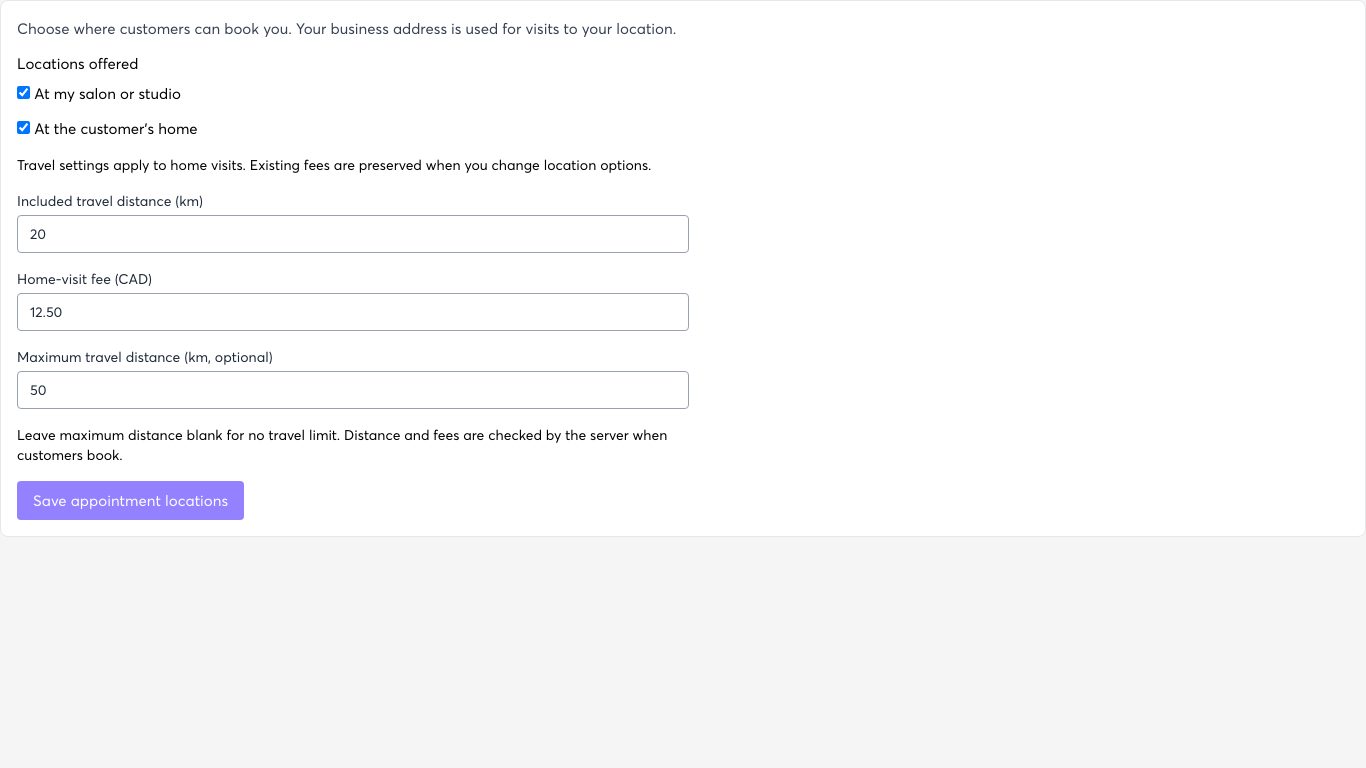
Scenario: preserves existing fees and explicitly clears a travel cap
Expected: the number field labelled "Home-visit fee (CAD)" is shown, [17,293,689,331]
Click the checkbox labelled "At the customer's home": {"x": 24, "y": 127} [17,120,30,134]
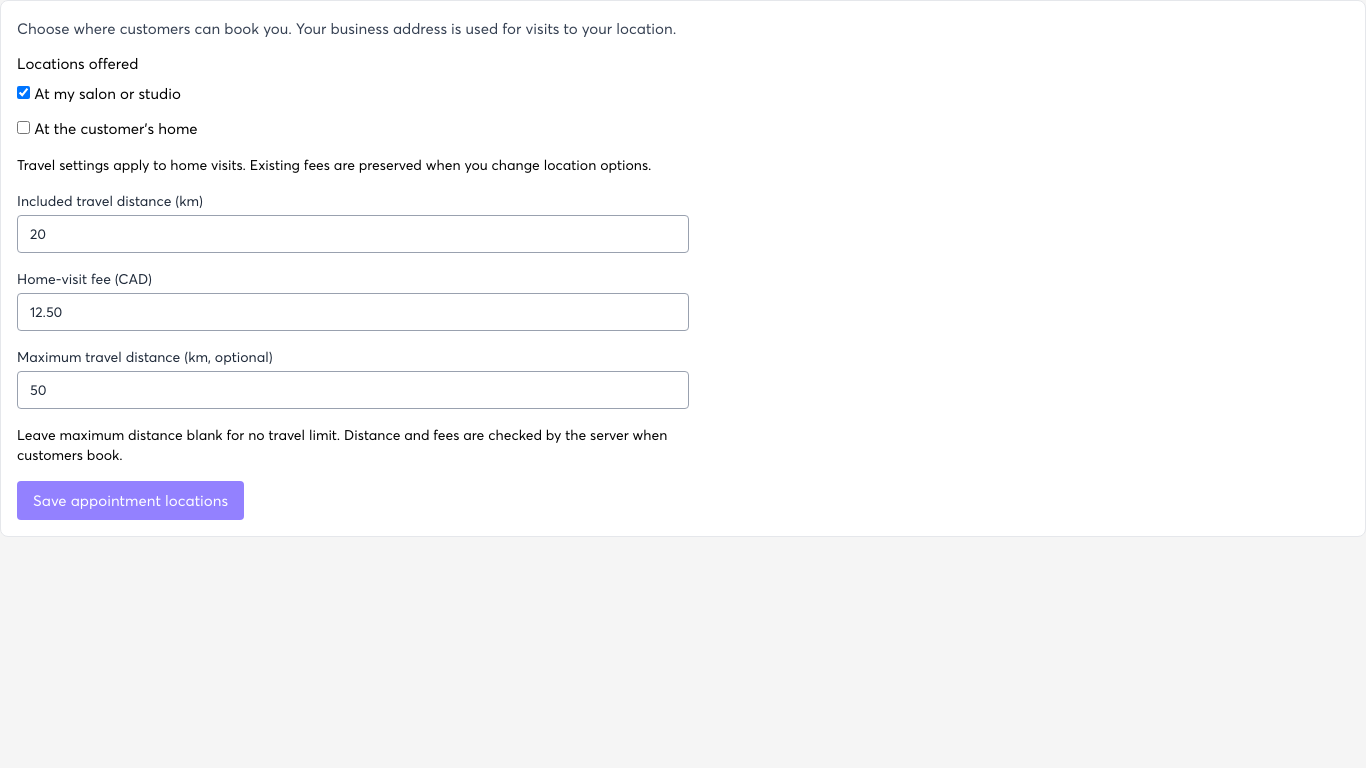
Clear the number field labelled "Maximum travel distance (km, optional)": {"x": 353, "y": 390} [17,371,689,409]
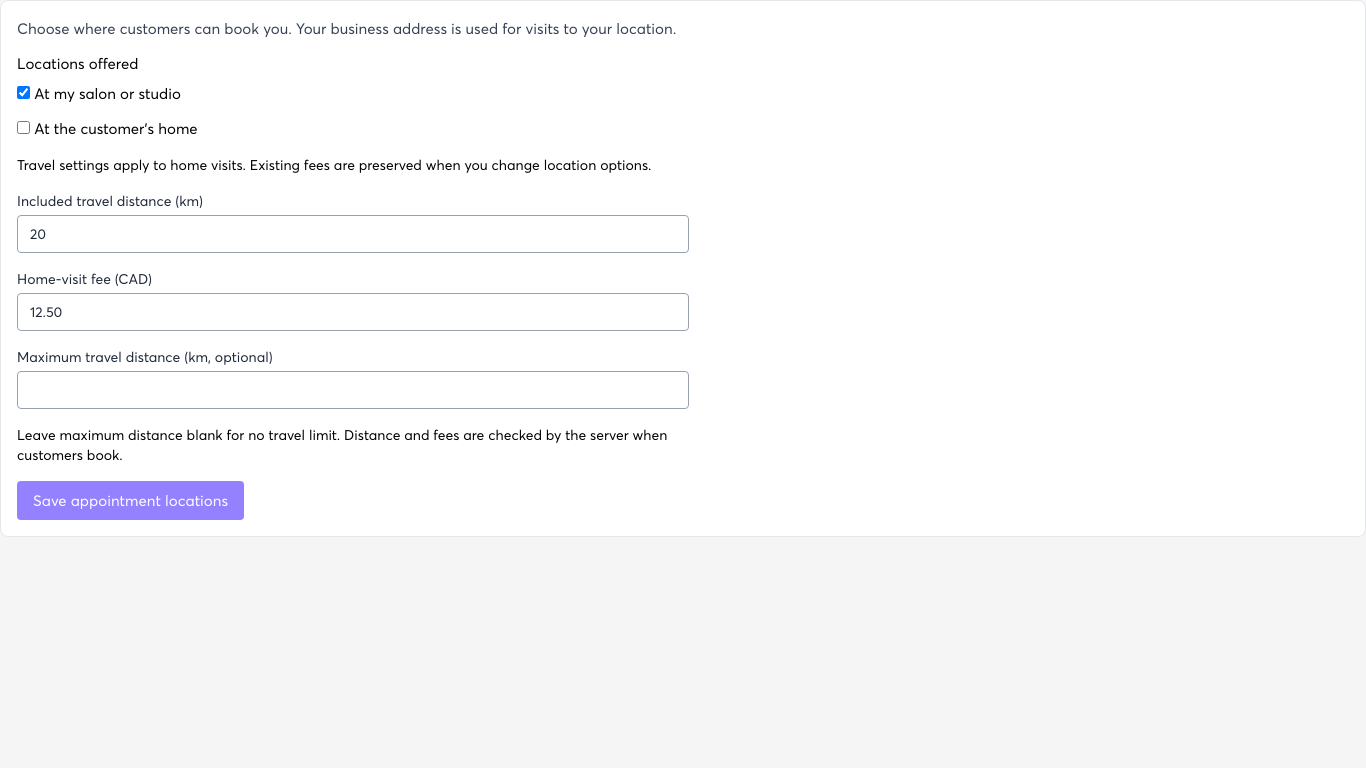
Click the button "Save appointment locations": {"x": 130, "y": 500} [17,481,244,520]
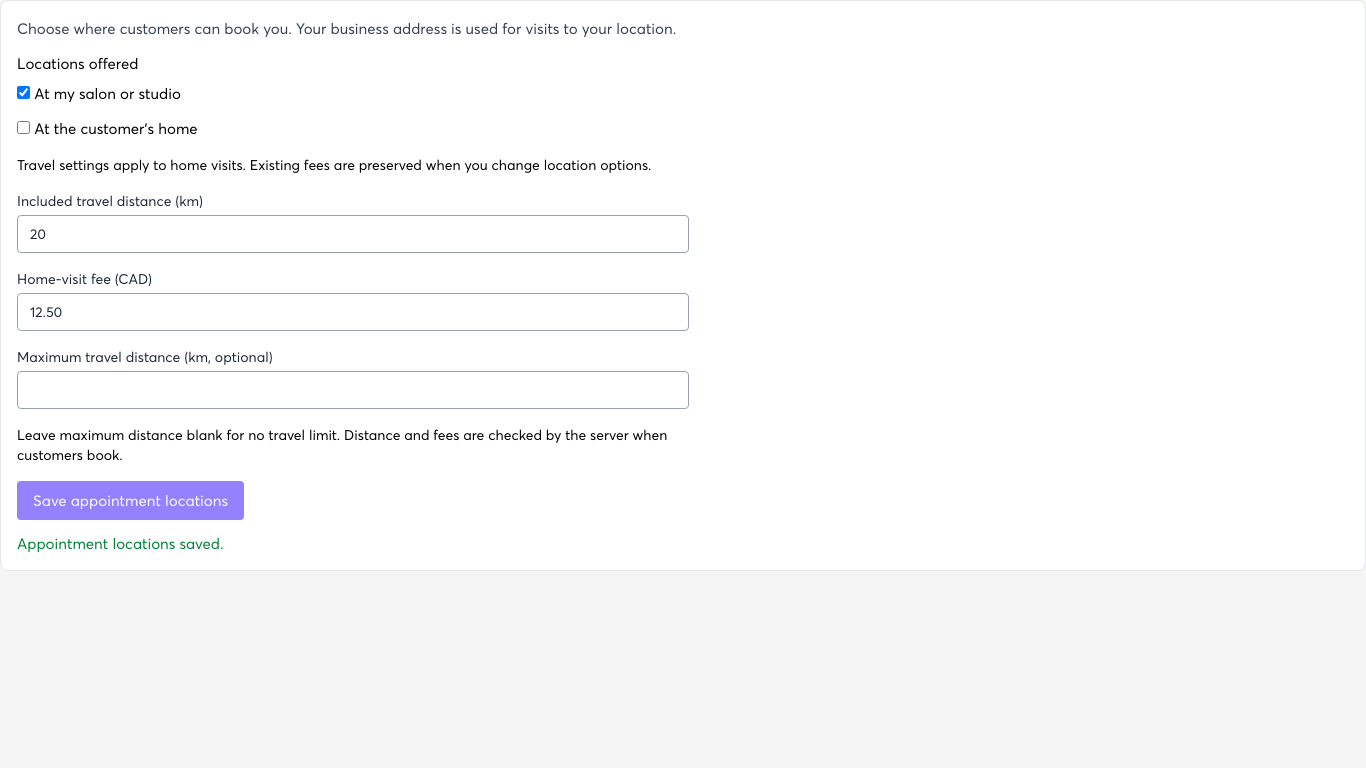
Result: the text "Appointment locations saved." is shown at [17,534,224,552]
